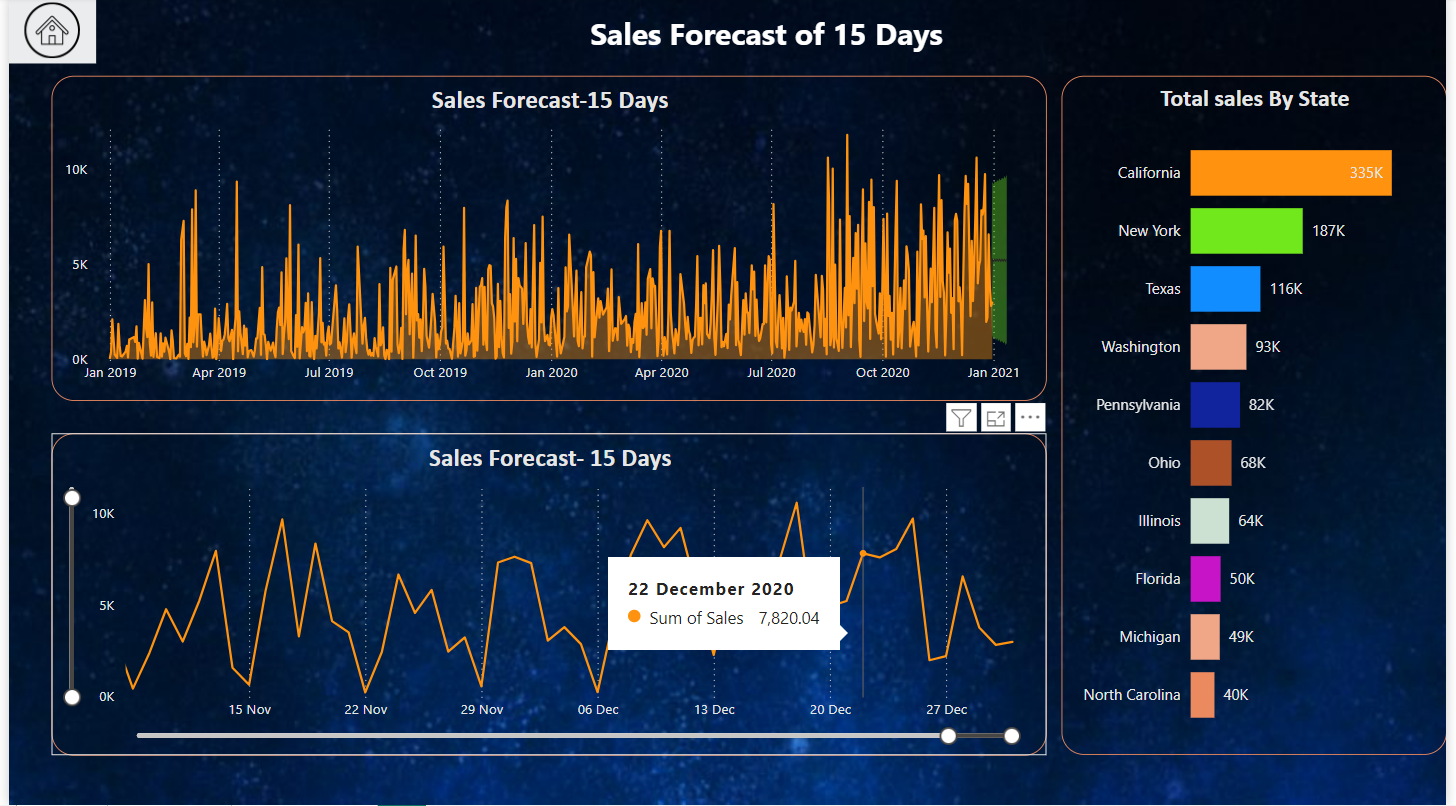

What the dashboard file says about the page in this screenshot:
{"tool":"powerbi","page":{"name":"Sales Forecast ","canvas":[1280,720],"ordinal":2},"visuals":[{"type":"lineChart","title":"Sales Forecast-15 Days ","fields":{"Y":["Sum(SuperStore_Sales_Dataset.Sales)"],"Category":["SuperStore_Sales_Dataset.Order Date.Variation.Date Hierarchy.Year","SuperStore_Sales_Dataset.Order Date.Variation.Date Hierarchy.Quarter","SuperStore_Sales_Dataset.Order Date.Variation.Date Hierarchy.Month","SuperStore_Sales_Dataset.Order Date.Variation.Date Hierarchy.Day"]},"box":[37.4,70,886.7,289.5],"z":0},{"type":"lineChart","title":"Sales Forecast- 15 Days ","fields":{"Y":["Sum(SuperStore_Sales_Dataset.Sales)"],"Category":["SuperStore_Sales_Dataset.Order Date"]},"box":[37.4,388.5,886.7,287.1],"z":1000},{"type":"clusteredBarChart","title":"Total sales By State","fields":{"Category":["SuperStore_Sales_Dataset.State"],"Y":["Sum(SuperStore_Sales_Dataset.Sales)"]},"box":[937.2,70,343.1,605.1],"z":2000},{"type":"textbox","box":[77.2,8.4,1202.8,61.5],"z":3000},{"type":"image","box":[0,0,77.2,59.1],"z":3001}]}

Visuals, with their boxes in screenshot pixels (x1, y1, x2, y2), scaled from the page's 1280x720 canvas onto the 1456x806 screenshot:
"Sales Forecast-15 Days " lineChart: {"left": 43, "top": 78, "right": 1051, "bottom": 402}
"Sales Forecast- 15 Days " lineChart: {"left": 43, "top": 435, "right": 1051, "bottom": 756}
"Total sales By State" clusteredBarChart: {"left": 1066, "top": 78, "right": 1455, "bottom": 756}
textbox: {"left": 88, "top": 9, "right": 1455, "bottom": 78}
image: {"left": 0, "top": 0, "right": 88, "bottom": 66}
